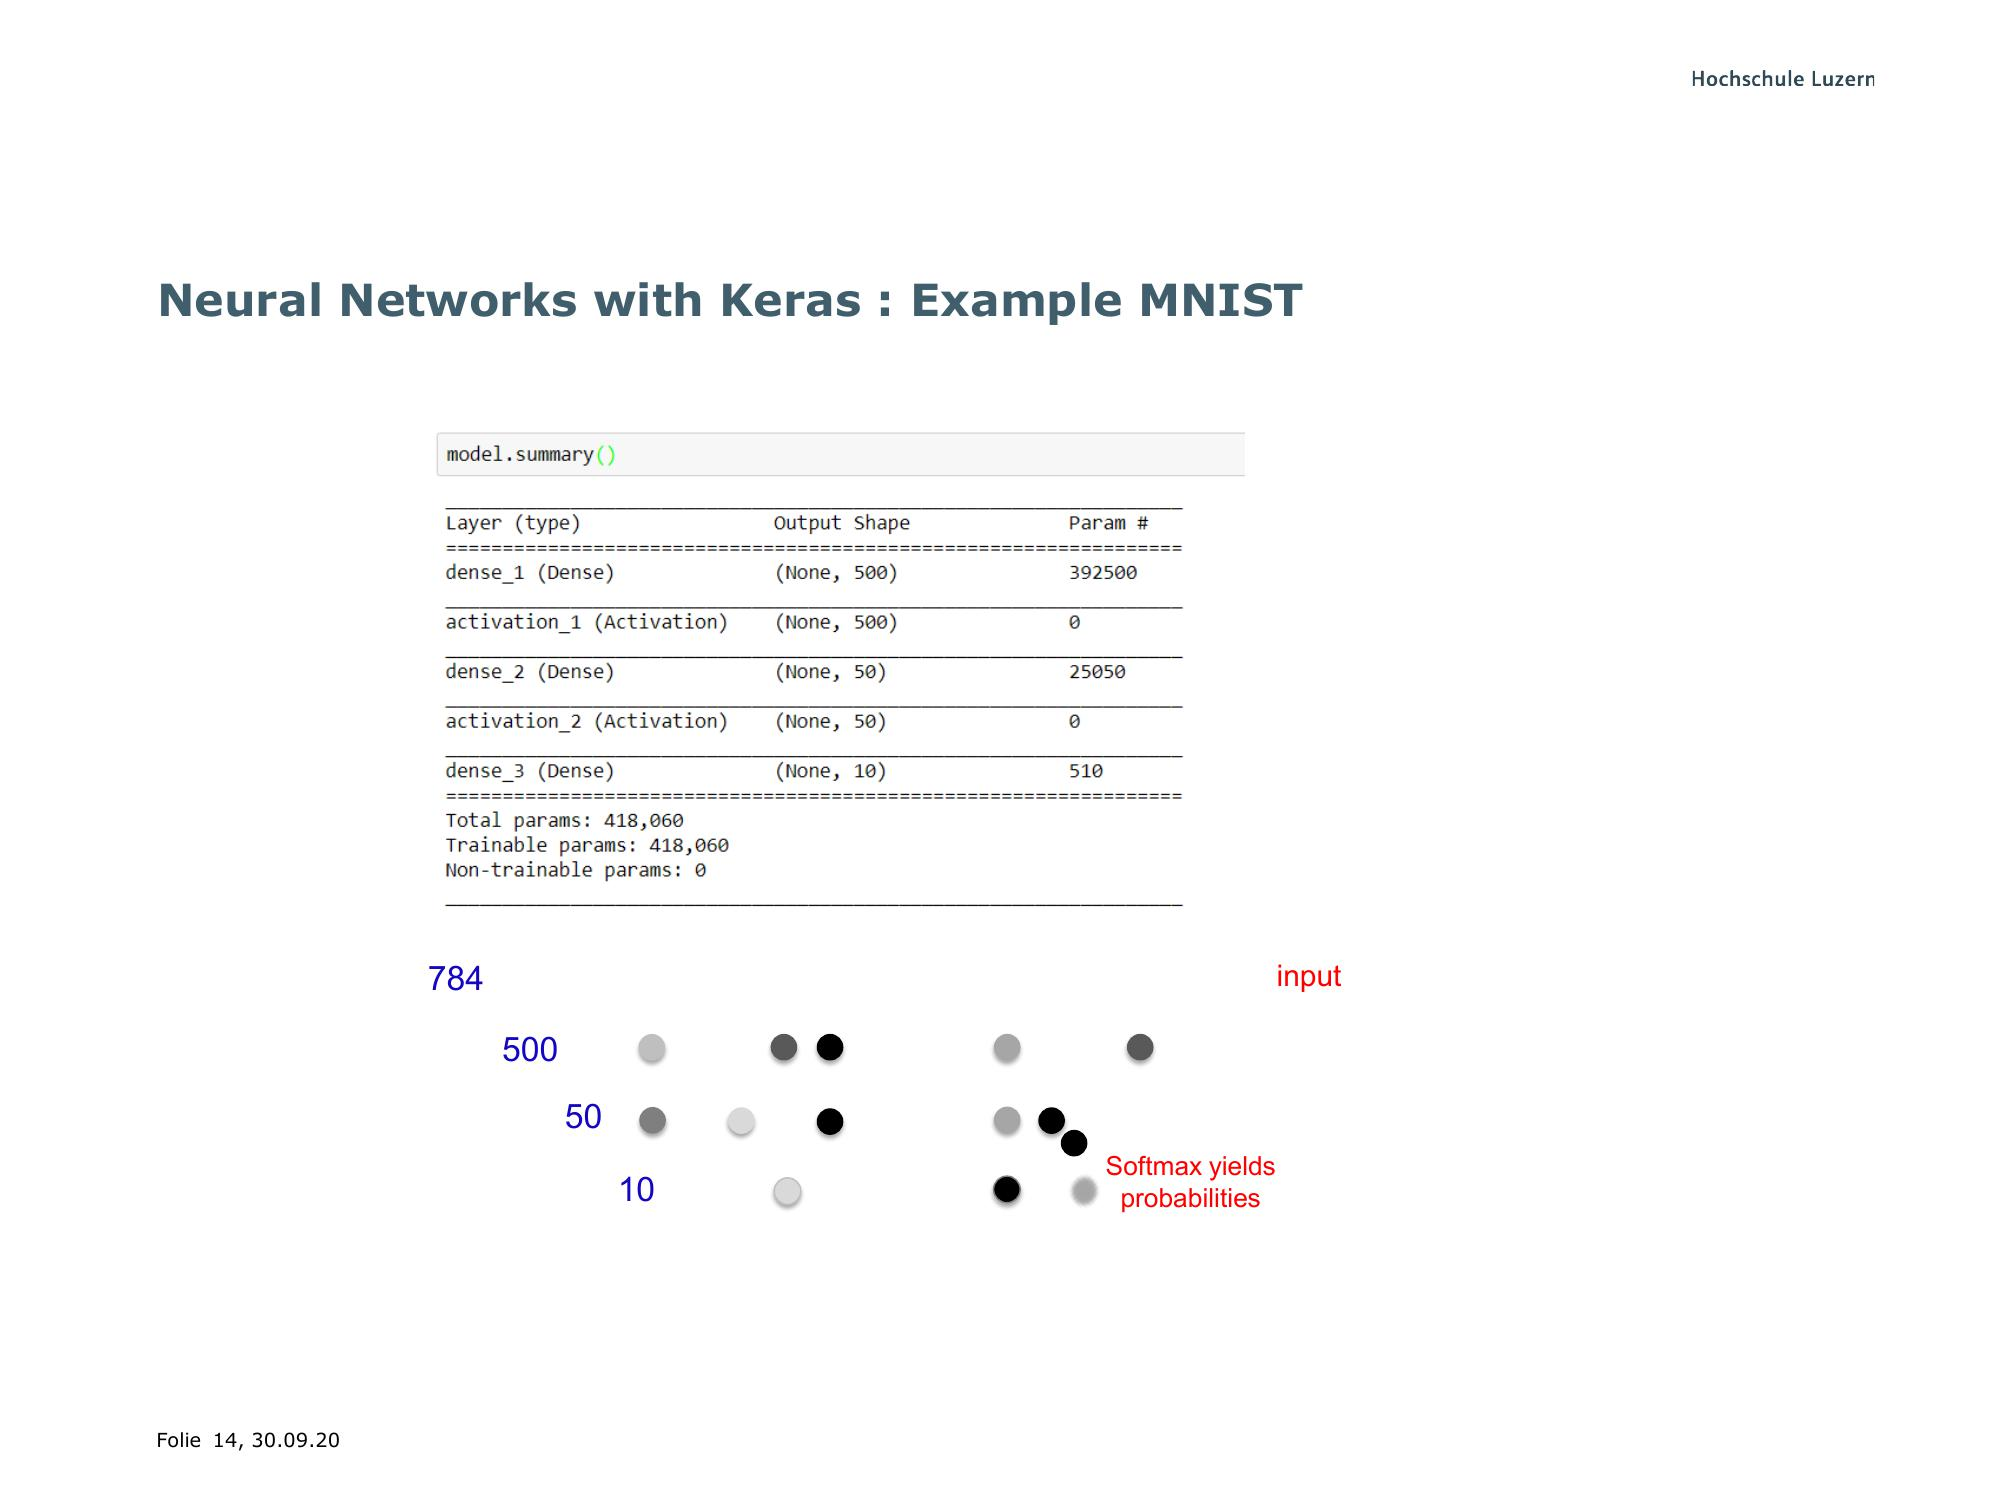Title: (139, 266, 1313, 334)
